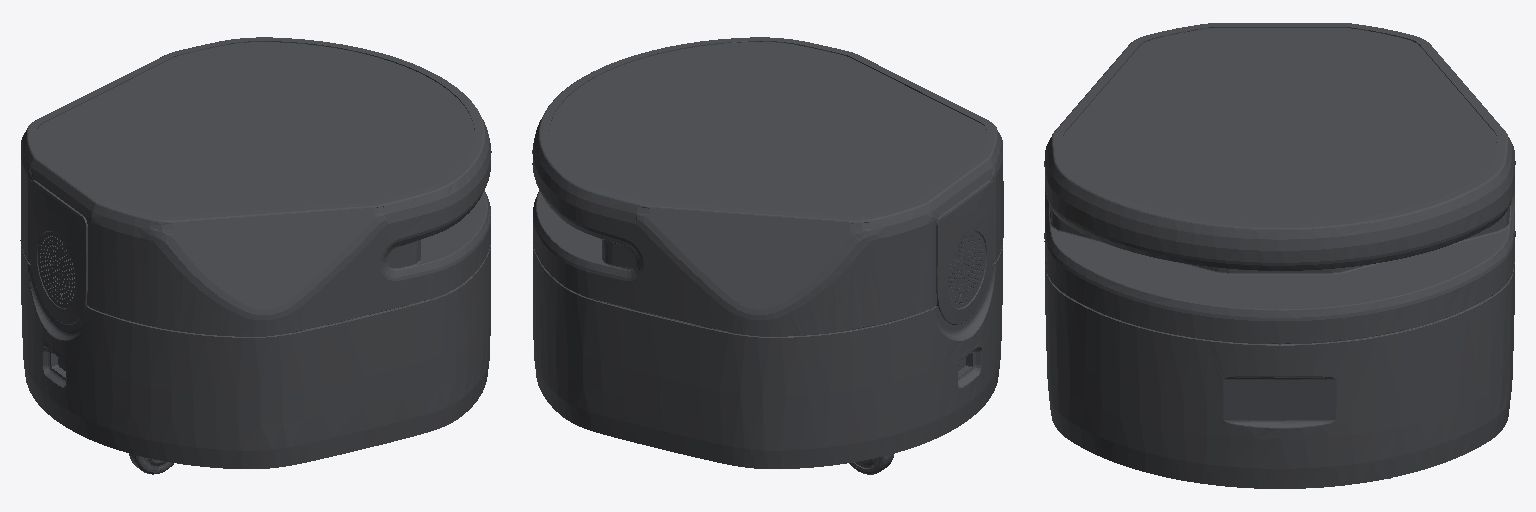
URDF robot description (base_link):
<robot name="base_link">
  <link name="base_link">
      <inertial>
        <origin rpy="0 0 0" xyz="-0.0036 0.0 0.0014" />
        <mass value="70.1294" />
        <inertia ixx="1.225" ixy="0.0099" ixz="0.0062" iyy="1.2853" iyz="-0.0034" izz="0.987" />
      </inertial>
      <visual>
        <origin rpy="0 0 0" xyz="0 0 0" />
        <geometry>
          <mesh filename="package://fetch_description/meshes/base_link.obj" />
        </geometry>
        <material name="">
          <color rgba="0.356 0.361 0.376 1" />
        </material>
      </visual>
      <collision>
        <origin rpy="0 0 0" xyz="0 0 0" />
        <geometry>
          <mesh filename="package://fetch_description/meshes/base_link_collision.STL" />
        </geometry>
      </collision>
    </link>
  </robot>

--- What the picture shows (computed from the rendered views, not written in the file) ---
Views: 3 orthographic renders of the robot side by side, from view 1: azimuth 30°, elevation 25°; view 2: azimuth 150°, elevation 25°; view 3: azimuth 270°, elevation 25°.
Robot: base_link — 1 links, 0 joints (none); root link base_link; default pose: every joint at zero.
Visible links, largest first — view 1: base_link; view 2: base_link; view 3: base_link.
Boxes of the visible links, x1=… form: base_link: x1=20, y1=37, x2=491, y2=474; base_link: x1=532, y1=37, x2=1003, y2=474; base_link: x1=1044, y1=23, x2=1515, y2=488.
Bounding box of the posed robot: 0.5733 × 0.5283 × 0.3589 m (x, y, z).
1 mesh visuals loaded from 1 distinct referenced files (1 OBJ).